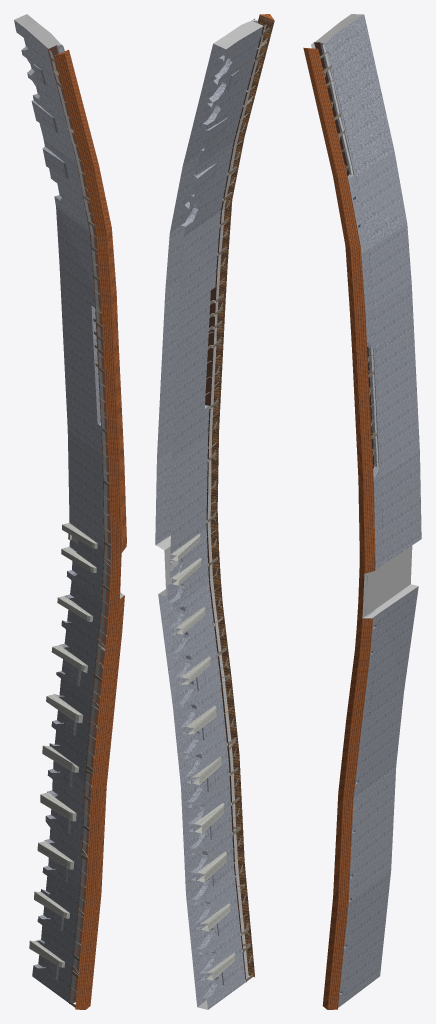
File: Myyrivahe_myyr-origo.obj
3 views of the same model, side by side, from view 1: azimuth 30°, elevation 25°; view 2: azimuth 150°, elevation 25°; view 3: azimuth 330°, elevation 25° (orthographic).
Visible parts, largest first — view 1: myyr; view 2: myyr; view 3: myyr, xxx002.
Boxes of the visible parts, x1,y1,x2,y2 form: myyr: (14,14,126,1009); myyr: (155,14,274,1009); myyr: (303,14,421,1009); xxx002: (374,545,411,609).
Bounding box in the file's own units: 14.69 × 181 × 16.49.
